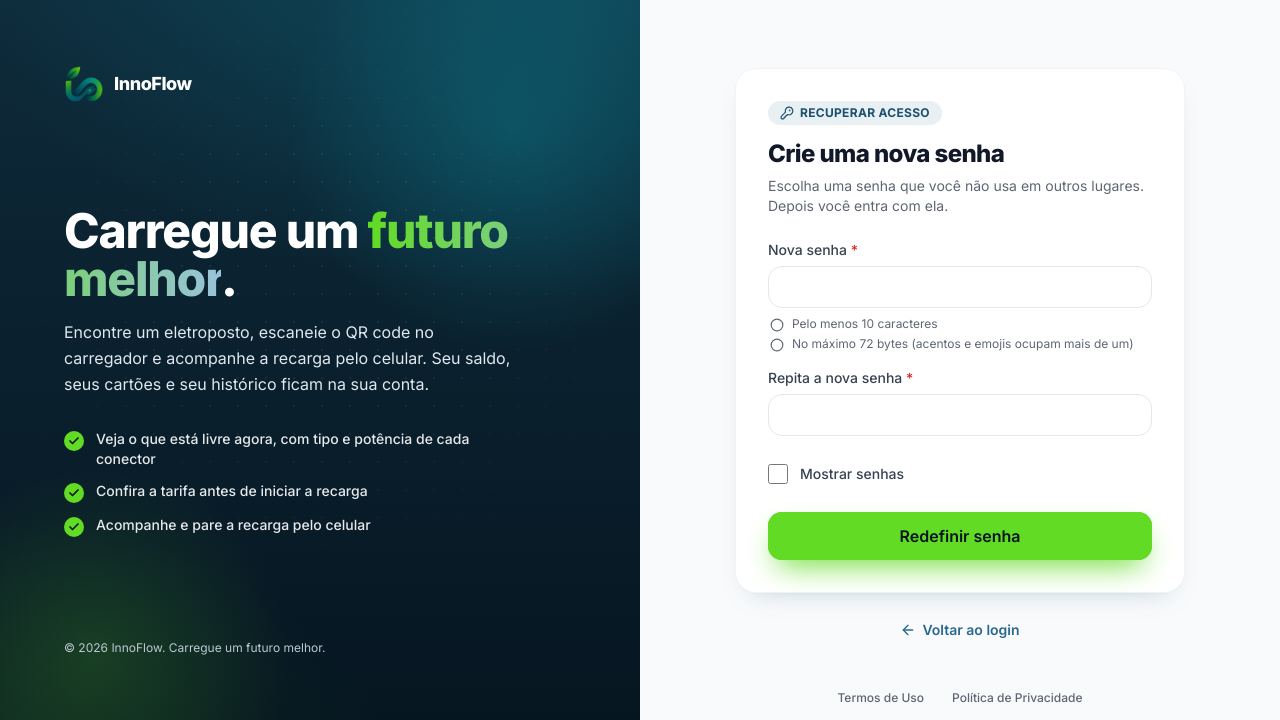
Scenario: ResetPassword - respostas do servidor › 429 com Retry-After legível: aviso com o tempo, foco no aviso, formulário mantido
Type "uma senha nova bem longa" into the password field labelled "Nova senha *".
click(960, 286); type("uma senha nova bem longa")  # box [768,266,1152,308]
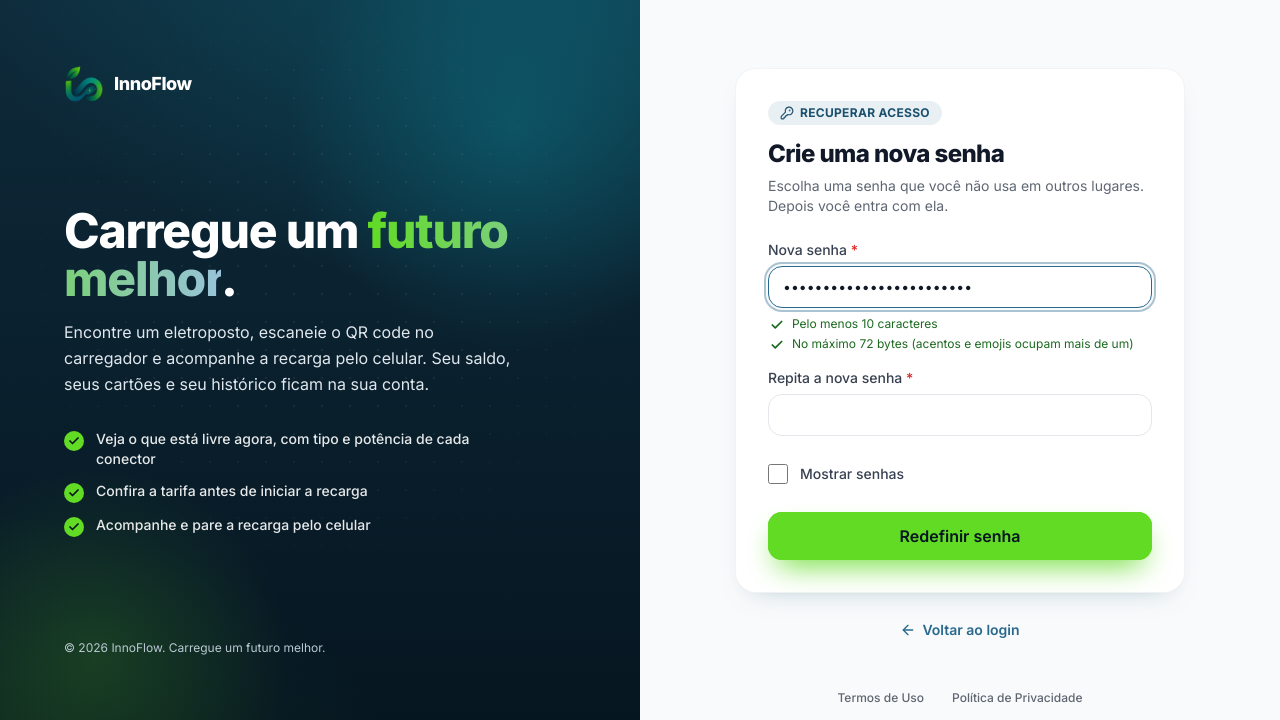
Type "uma senha nova bem longa" into the password field labelled "Repita a nova senha *".
click(960, 414); type("uma senha nova bem longa")  # box [768,394,1152,436]
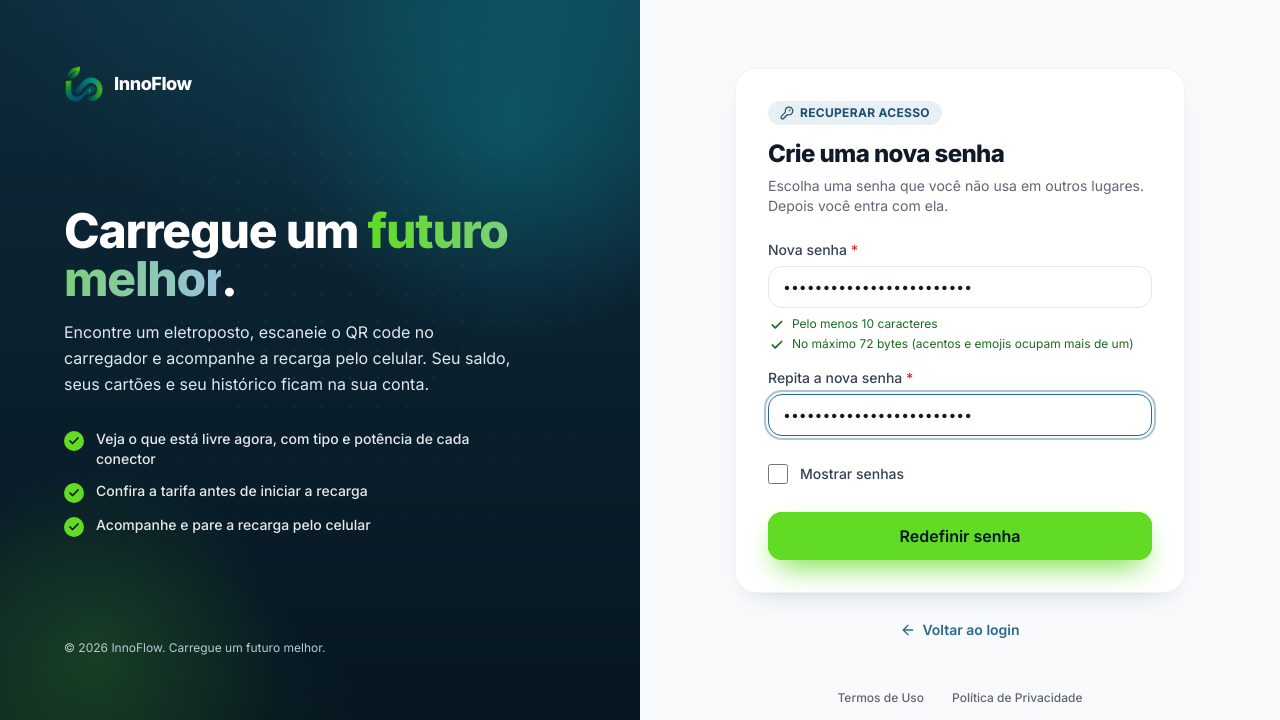
Click the button "Redefinir senha".
click(960, 536)  # box [768,512,1152,560]
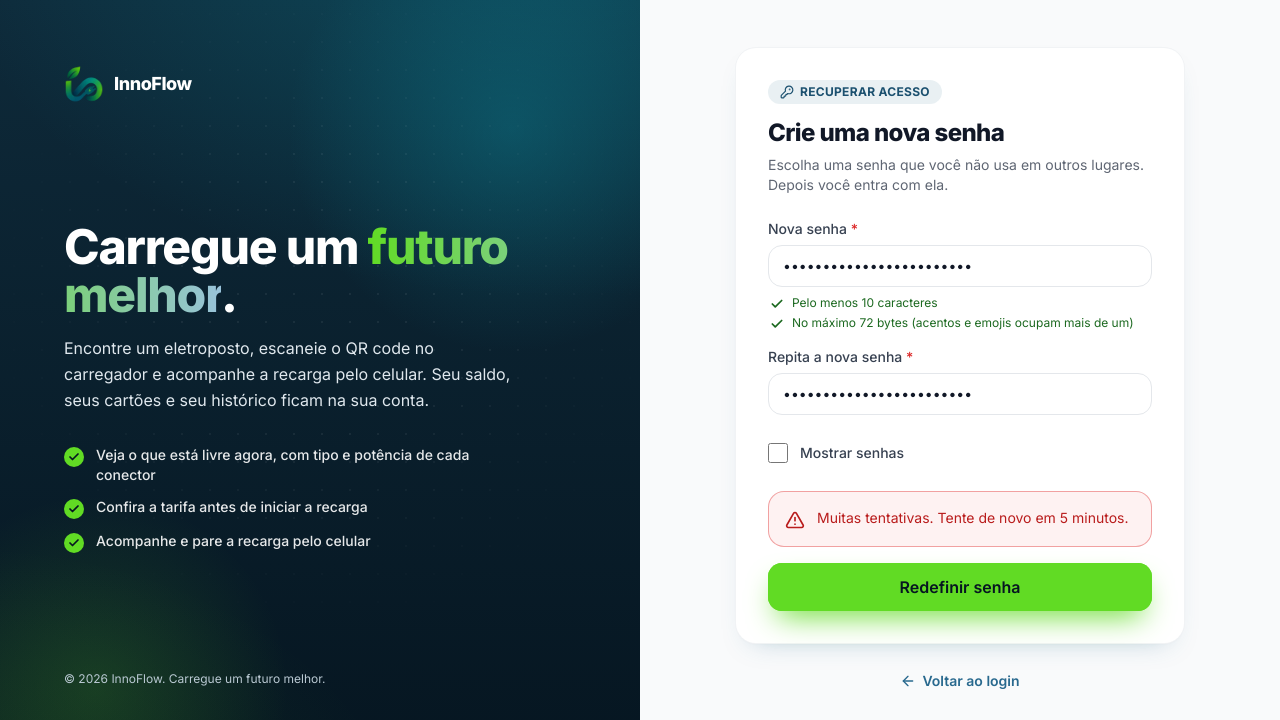
Check: the message reads "Muitas tentativas. Tente de novo em 5 minutos.", box [817,509,1128,526]
